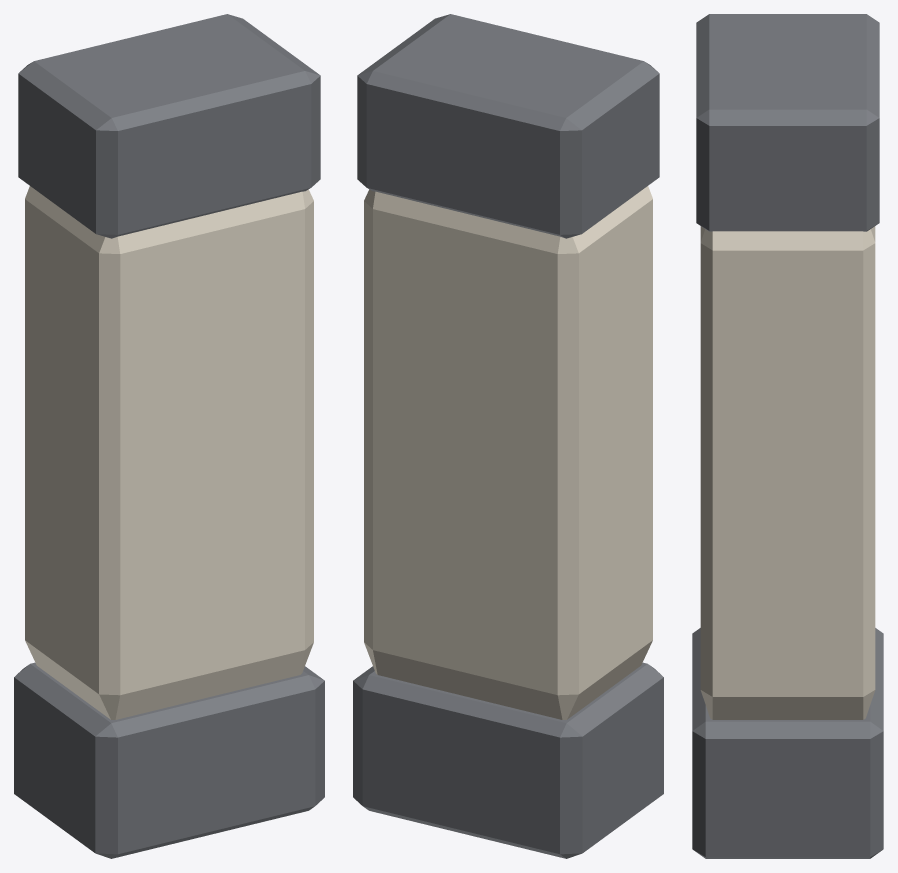
File: b10_digital_restaurant_menu_totem.glb
3 views of the same model, side by side, from view 1: azimuth 30°, elevation 25°; view 2: azimuth 150°, elevation 25°; view 3: azimuth 270°, elevation 25° (orthographic).
Visible parts, largest first — view 1: b10_digital_restaurant_menu_totem; view 2: b10_digital_restaurant_menu_totem; view 3: b10_digital_restaurant_menu_totem.
Part boxes in pixels (left/top/right/bottom): b10_digital_restaurant_menu_totem: left=14, top=14, right=324, bottom=858; b10_digital_restaurant_menu_totem: left=353, top=14, right=663, bottom=858; b10_digital_restaurant_menu_totem: left=692, top=14, right=883, bottom=858.
Size of the model in its own units: 0.66 by 2.03 by 0.47.
